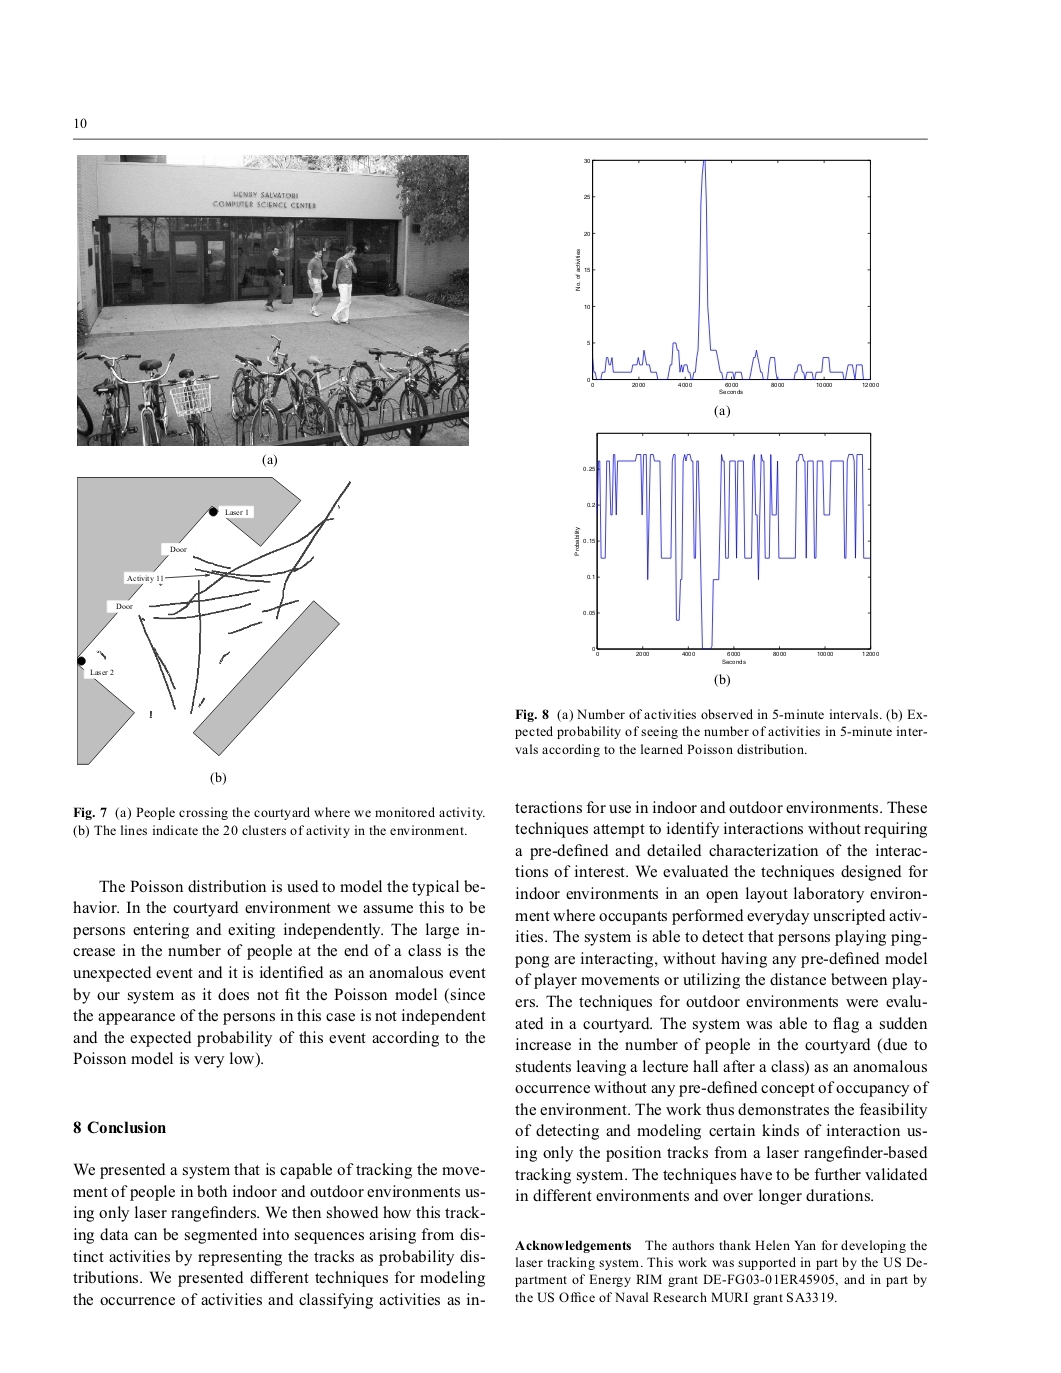figure: (77, 154, 468, 446), (77, 475, 350, 765), (575, 157, 878, 395), (574, 431, 878, 664)
